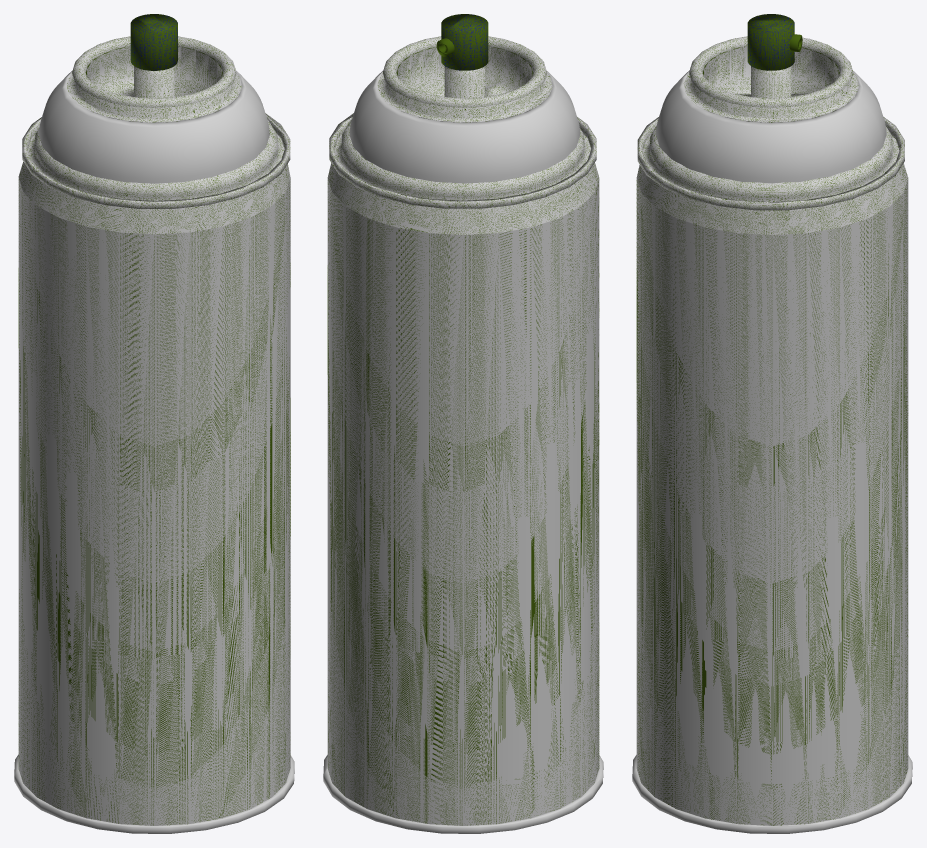
3 renders of one model, left to right at view 1: azimuth 30°, elevation 25°; view 2: azimuth 150°, elevation 25°; view 3: azimuth 270°, elevation 25°, orthographic.
Parts seen in each view (by area): view 1: mesh2_mesh2-geometry, mesh1_mesh1-geometry, mesh4_mesh4-geometry, mesh3_mesh3-geometry, mesh5_mesh5-geometry; view 2: mesh2_mesh2-geometry, mesh1_mesh1-geometry, mesh4_mesh4-geometry, mesh3_mesh3-geometry, mesh5_mesh5-geometry; view 3: mesh2_mesh2-geometry, mesh1_mesh1-geometry, mesh4_mesh4-geometry, mesh3_mesh3-geometry, mesh5_mesh5-geometry.
Part boxes in pixels (x1,y1,x2,y2): mesh2_mesh2-geometry: [14, 113, 294, 833]; mesh1_mesh1-geometry: [38, 70, 269, 183]; mesh4_mesh4-geometry: [72, 36, 236, 122]; mesh3_mesh3-geometry: [66, 73, 241, 122]; mesh5_mesh5-geometry: [130, 14, 177, 70]; mesh2_mesh2-geometry: [323, 113, 603, 833]; mesh1_mesh1-geometry: [349, 71, 580, 183]; mesh4_mesh4-geometry: [383, 36, 546, 122]; mesh3_mesh3-geometry: [377, 73, 552, 122]; mesh5_mesh5-geometry: [441, 14, 488, 70]; mesh2_mesh2-geometry: [632, 117, 912, 833]; mesh1_mesh1-geometry: [655, 70, 886, 183]; mesh4_mesh4-geometry: [689, 36, 853, 122]; mesh3_mesh3-geometry: [683, 73, 858, 122]; mesh5_mesh5-geometry: [747, 14, 794, 70].
Size of the model in its own units: 0.3052 by 0.9021 by 0.3052.
